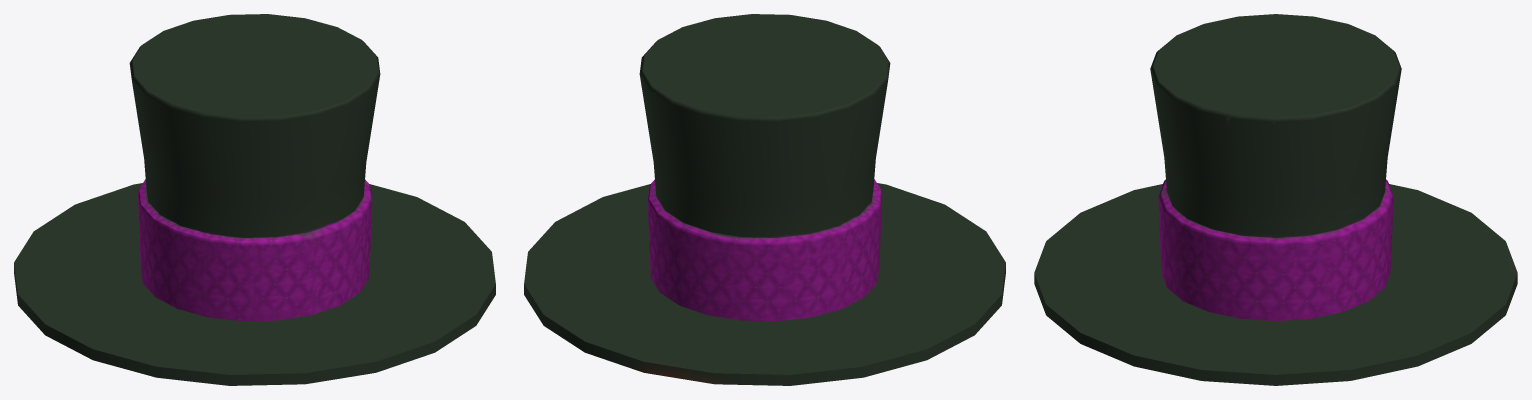
Rendered from Props_HiHat.fbx.
3 renders of one model, left to right at view 1: azimuth 30°, elevation 25°; view 2: azimuth 150°, elevation 25°; view 3: azimuth 270°, elevation 25°, orthographic.
Parts seen in each view (by area): view 1: HiHat; view 2: HiHat; view 3: HiHat.
Boxes of the visible parts, x1=… form: HiHat: x1=14, y1=14, x2=495, y2=385; HiHat: x1=524, y1=14, x2=1005, y2=385; HiHat: x1=1034, y1=14, x2=1517, y2=385.
Size of the model in its own units: 17.04 by 8.48 by 17.04.
